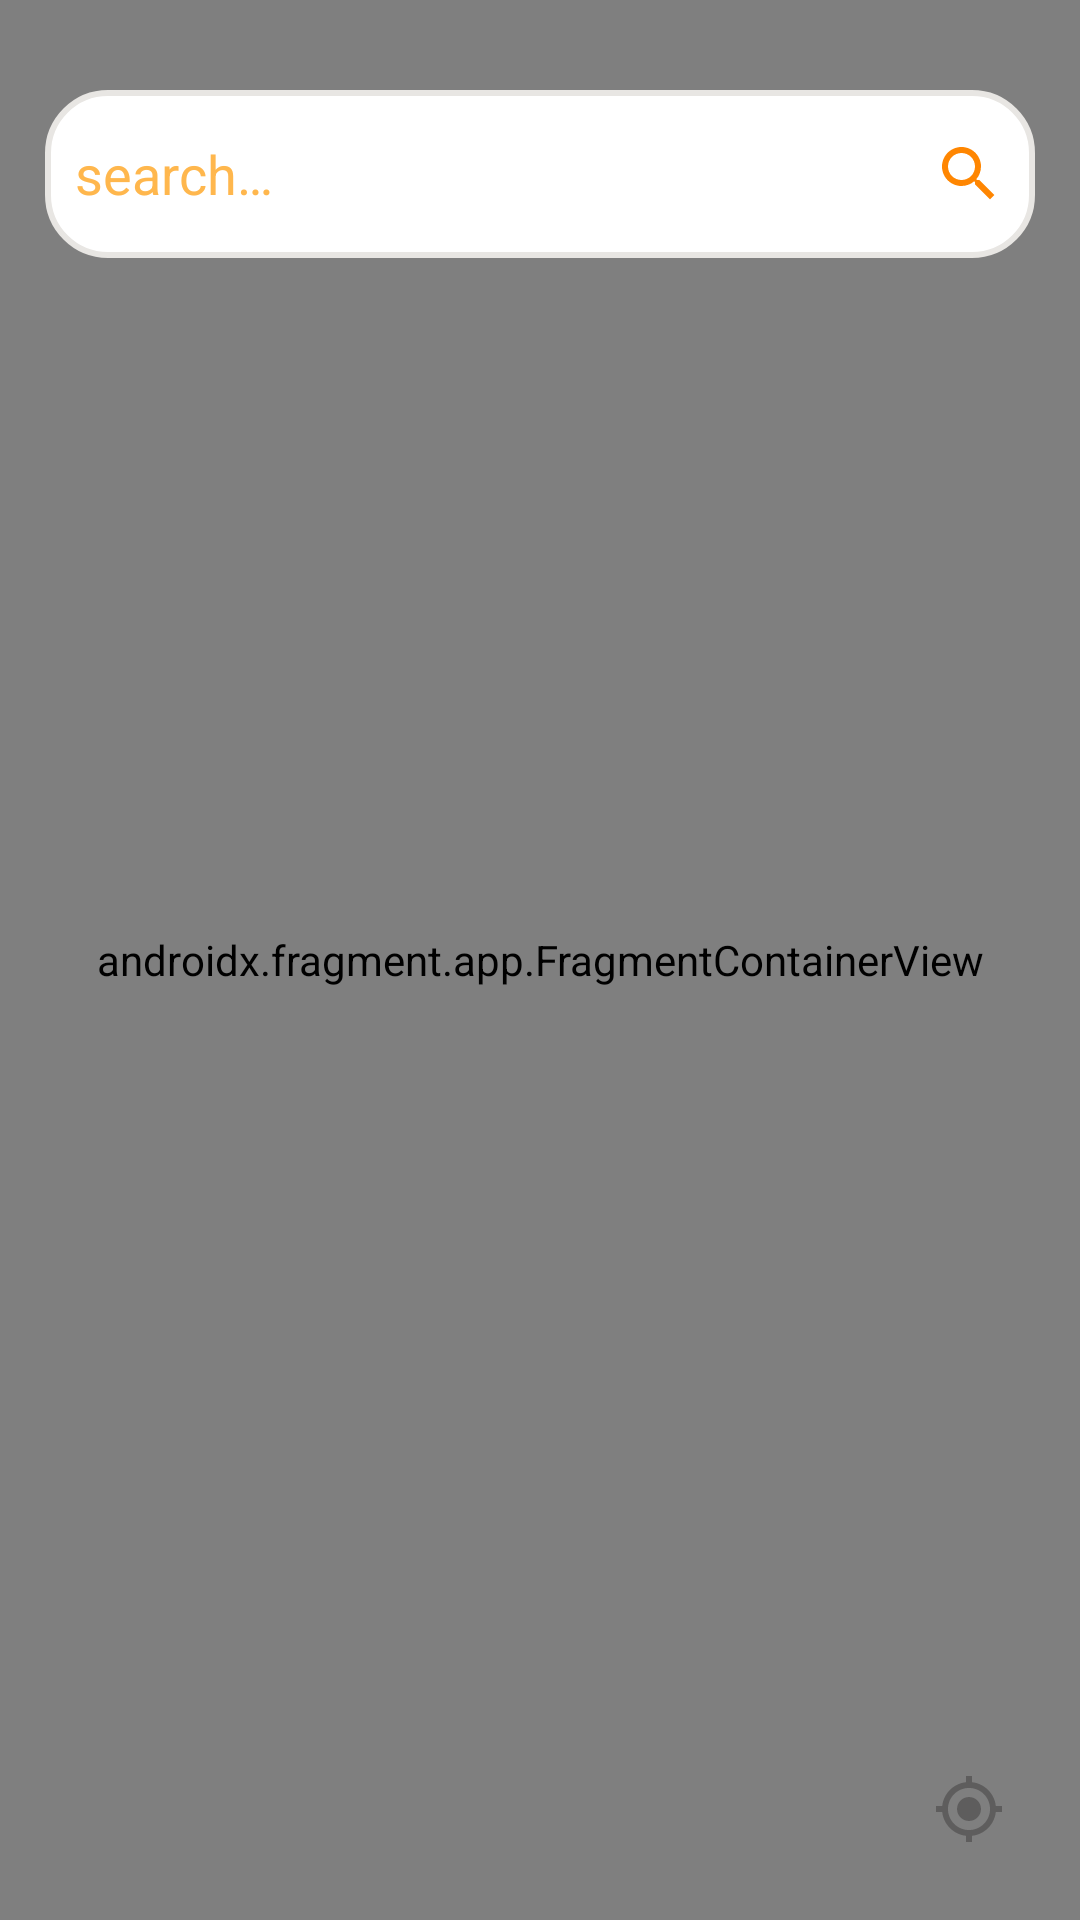

Locate icon controls on the screen. Image size 1080x1920, boxes as (x1, y1, x2, y2).
location: (936, 1776, 1002, 1842)
